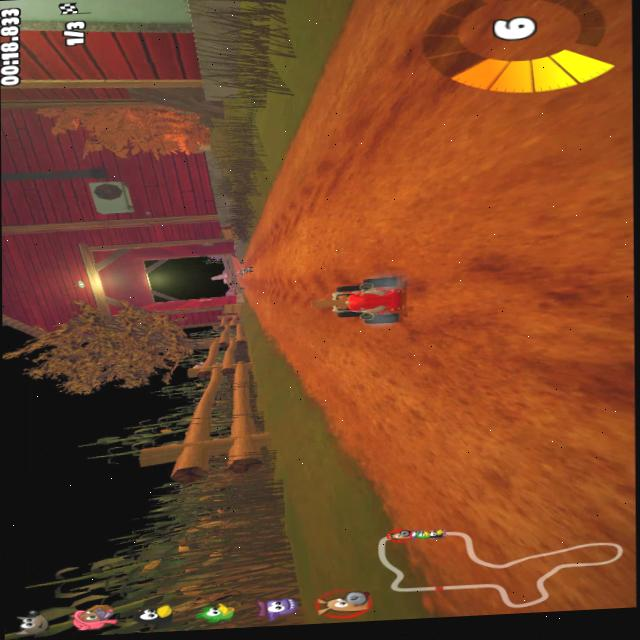enemy_kart: (236, 264, 255, 275)
nitro: (235, 283, 245, 291)
player_kart: (313, 274, 413, 327)
track: (416, 258, 640, 619), (258, 150, 633, 276), (366, 0, 631, 164), (320, 326, 413, 411), (301, 80, 364, 168), (357, 404, 412, 473), (251, 273, 309, 322), (374, 472, 416, 521), (277, 320, 315, 348), (285, 348, 316, 371), (241, 237, 258, 262), (328, 410, 352, 424), (228, 257, 237, 263)
